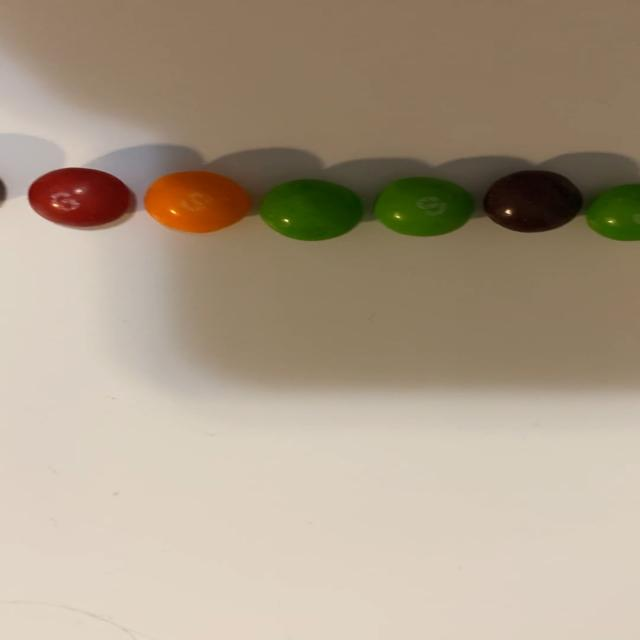smartie: (144, 171, 249, 232), (259, 179, 361, 240), (484, 170, 583, 232), (27, 168, 131, 227), (375, 177, 472, 236), (587, 184, 640, 240)
